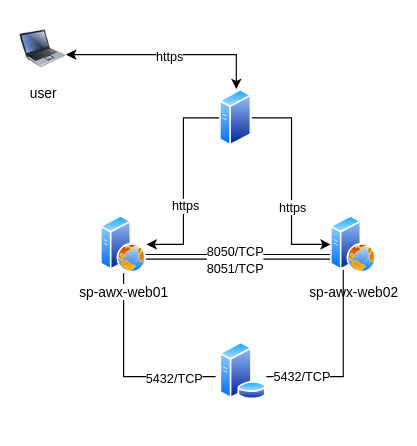
This 417x446 diagram has some shape labels left out. Here are the shapes that lost their labels. From the top down, the centre of each, then its label:
the point at 235,117: sp-awx-haproxy
the point at 242,370: sp-awx-db
